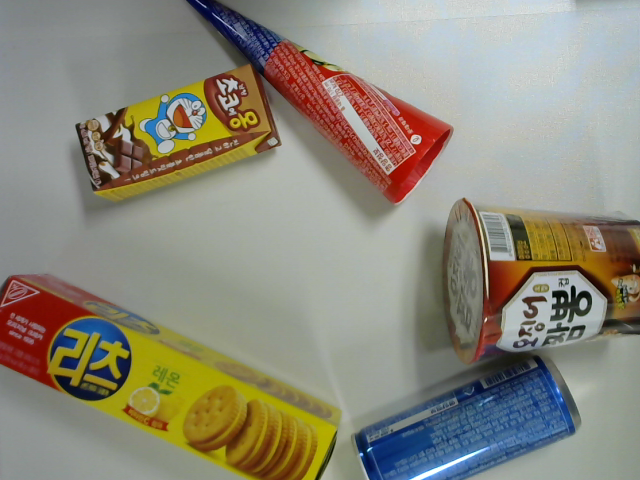Choco_E_Mong: (70, 58, 290, 210)
Ojjam: (434, 194, 640, 361)
Pepsi_Cola_Can_250ml: (336, 344, 586, 480)
Ritz_Remon_96g: (1, 267, 345, 479)
World_Cone_Banila: (175, 1, 458, 207)
